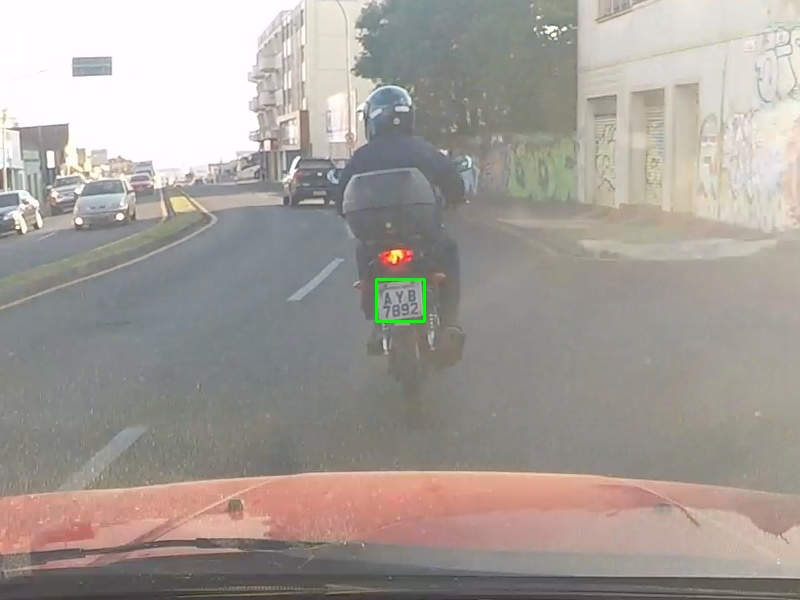placa: (376, 279, 424, 321)
